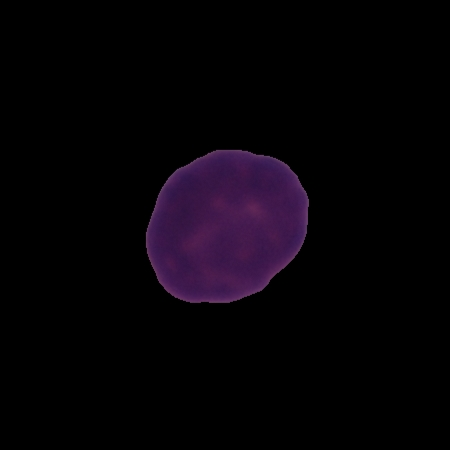HEM: (142, 144, 312, 306)
